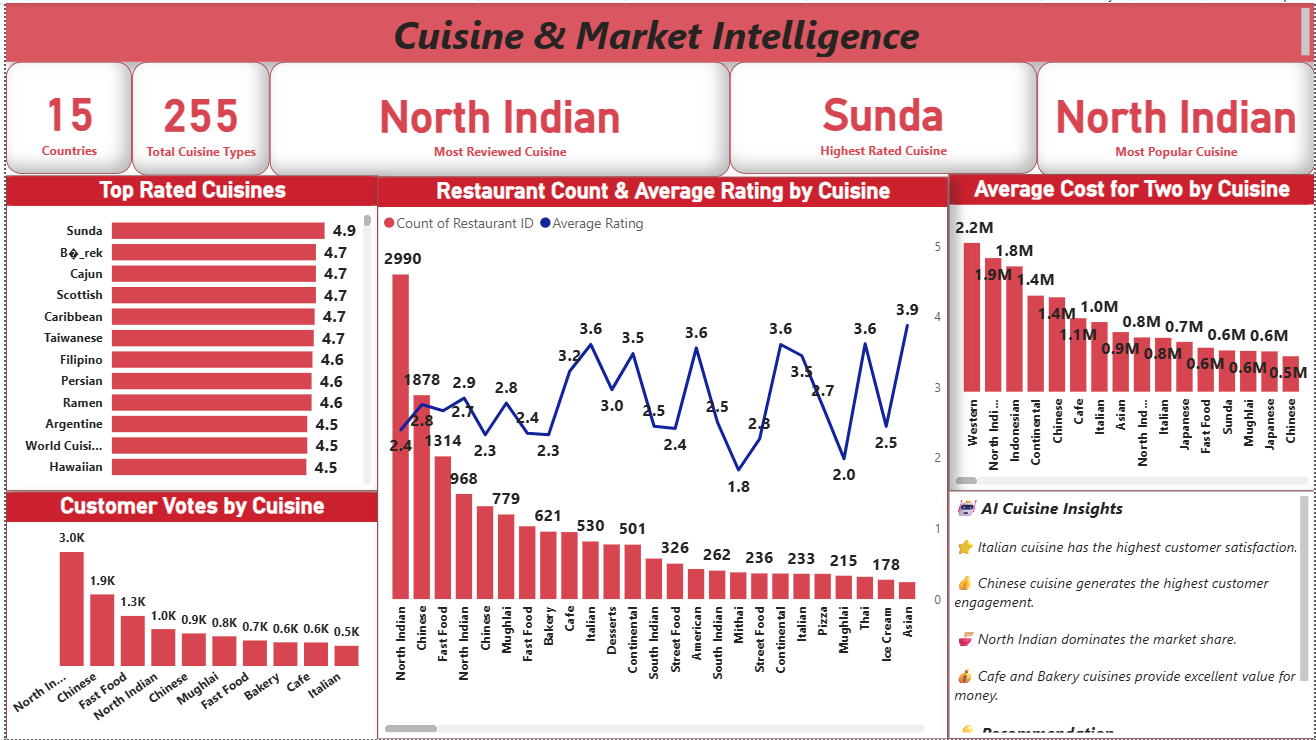

Layout of this report page (visuals, bound fields, positions):
{"tool":"powerbi","page":{"name":"Cuisine & Market Intelligence","canvas":[1280,720],"ordinal":2},"visuals":[{"type":"textbox","box":[0,0,1280.3,57.6],"z":0},{"type":"card","fields":{"Values":["Table.Countries"]},"box":[0,57.6,123.5,109.8],"z":1000},{"type":"card","fields":{"Values":["Table.Highest Rated Cuisine"]},"box":[708.1,57.6,300.5,109.8],"z":2000},{"type":"card","fields":{"Values":["Table.Most Popular Cuisine"]},"box":[1008.6,57.6,271.7,112.5],"z":3000},{"type":"card","fields":{"Values":["Table.Most Reviewed Cuisine"]},"box":[258,57.6,450.1,112.5],"z":4000},{"type":"card","fields":{"Values":["Table.Total Cuisine Types"]},"box":[123.5,57.6,134.5,111.1],"z":5000},{"type":"barChart","title":"Top Rated Cuisines","fields":{"Category":["Dataset.Cuisines"],"Y":["Dataset.Average Rating"]},"box":[0,168.8,363.6,308.7],"z":6000},{"type":"clusteredColumnChart","title":"Customer Votes by Cuisine","fields":{"Category":["Dataset.Cuisines"],"Y":["CountNonNull(Dataset.Votes)"]},"box":[0,477.5,363.6,242.9],"z":7000},{"type":"clusteredColumnChart","title":"Average Cost for Two by Cuisine","fields":{"Category":["Dataset.Cuisines"],"Y":["Sum(Dataset.Average Cost for two)"]},"box":[922.1,167.4,358.1,310.1],"z":8000},{"type":"lineClusteredColumnComboChart","title":"Restaurant Count & Average Rating by Cuisine","fields":{"Category":["Dataset.Cuisines"],"Y":["CountNonNull(Dataset.Restaurant ID)"],"Y2":["Dataset.Average Rating"]},"box":[363.6,170.2,558.5,550.3],"z":9000},{"type":"textbox","title":"AI Cuisine Recommendations","box":[922,477,358,243],"z":10000}]}

Visuals, with their boxes in screenshot pixels (x1, y1, x2, y2), scaled from the page's 1280x720 canvas onto the 1316x740 screenshot:
textbox: locate(0, 0, 1315, 59)
card - Table.Countries: locate(0, 59, 127, 172)
card - Table.Highest Rated Cuisine: locate(728, 59, 1037, 172)
card - Table.Most Popular Cuisine: locate(1037, 59, 1315, 175)
card - Table.Most Reviewed Cuisine: locate(265, 59, 728, 175)
card - Table.Total Cuisine Types: locate(127, 59, 265, 173)
"Top Rated Cuisines" barChart: locate(0, 173, 374, 491)
"Customer Votes by Cuisine" clusteredColumnChart: locate(0, 491, 374, 739)
"Average Cost for Two by Cuisine" clusteredColumnChart: locate(948, 172, 1315, 491)
"Restaurant Count & Average Rating by Cuisine" lineClusteredColumnComboChart: locate(374, 175, 948, 739)
"AI Cuisine Recommendations" textbox: locate(948, 490, 1315, 739)
